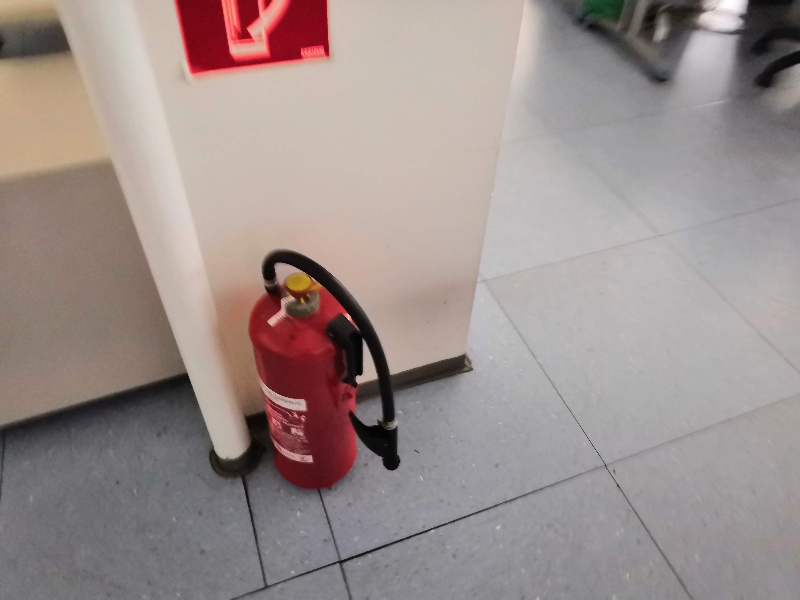vataparat: (247, 251, 401, 492)
